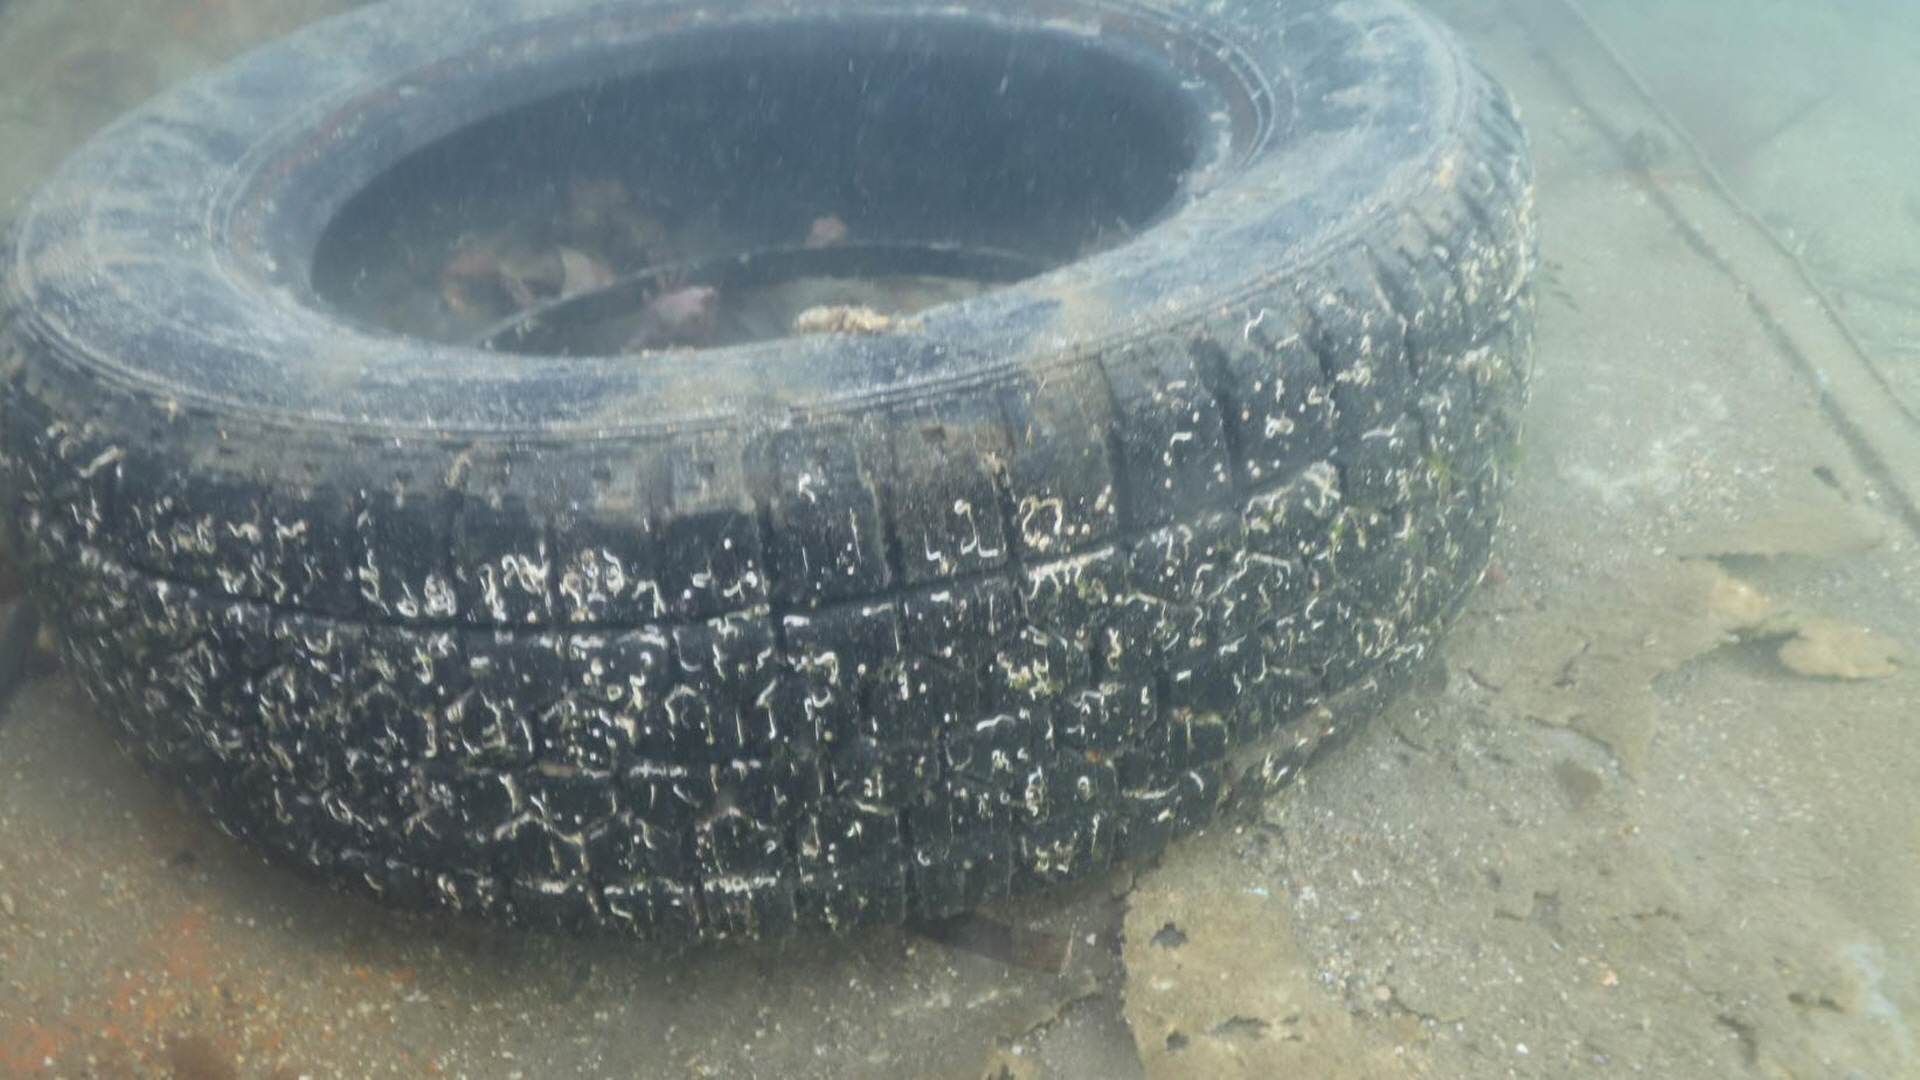tire: (0, 0, 1538, 947)
